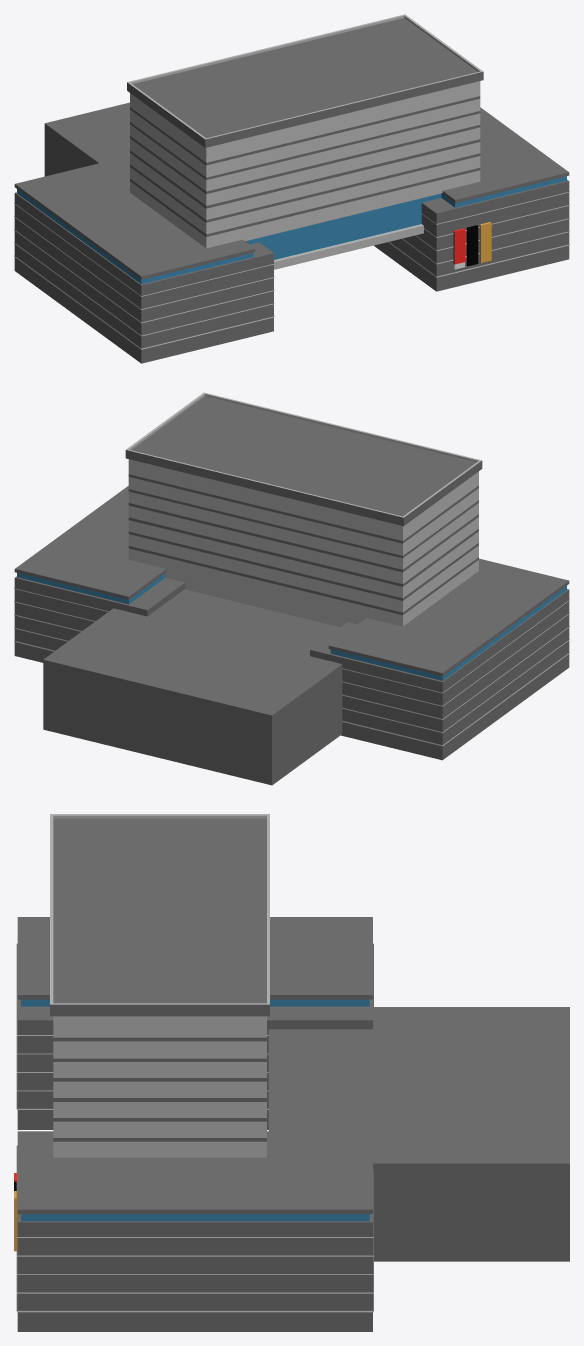
File: kokura.glb
3 renders of one model, top to bottom at view 1: azimuth 30°, elevation 25°; view 2: azimuth 150°, elevation 25°; view 3: azimuth 270°, elevation 25°, orthographic. The views are drawn at different scales.
Parts seen in each view (by area): view 1: 立方体.001, Cube, Cube.001, 立方体, 立方体.003, 立方体.005, 立方体.002; view 2: 立方体.001, 立方体, Cube, Cube.001; view 3: 立方体.001, Cube.001, 立方体, Cube.
Boxes of the visible parts, bbox=[...] form: 立方体.001: bbox=[127, 14, 483, 269]; Cube: bbox=[14, 156, 274, 363]; Cube.001: bbox=[374, 107, 569, 291]; 立方体: bbox=[44, 102, 129, 176]; 立方体.003: bbox=[466, 225, 478, 266]; 立方体.005: bbox=[479, 222, 491, 262]; 立方体.002: bbox=[453, 228, 464, 269]; 立方体.001: bbox=[125, 392, 482, 627]; 立方体: bbox=[43, 589, 342, 785]; Cube: bbox=[310, 558, 569, 760]; Cube.001: bbox=[14, 486, 185, 662]; 立方体.001: bbox=[50, 814, 269, 1157]; Cube.001: bbox=[16, 1131, 373, 1331]; 立方体: bbox=[268, 1007, 569, 1261]; Cube: bbox=[16, 917, 373, 1129].
Bounding box in the file's own units: 6.84 × 3.01 × 5.48.
